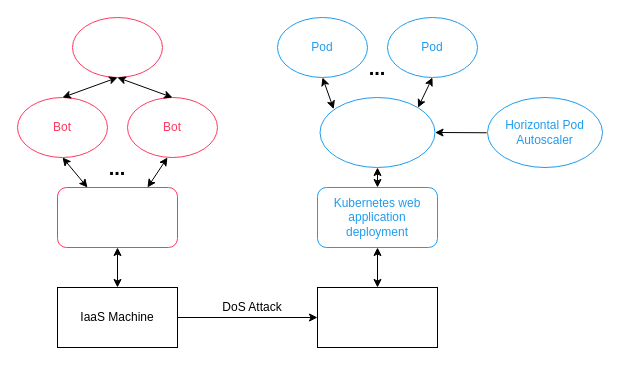
Some shapes in this 620 by 365 pixel diagram are drawn without their labels. The shapes that lost their labels are listed below. From the top down, each one's centre as x and y in pixels, then its label:
At (117,47): "Bot herder".
At (377,132): "Service/Deployment".
At (117,217): "OpenStack instances: botnet".
At (377,317): "PaaS Machine".
